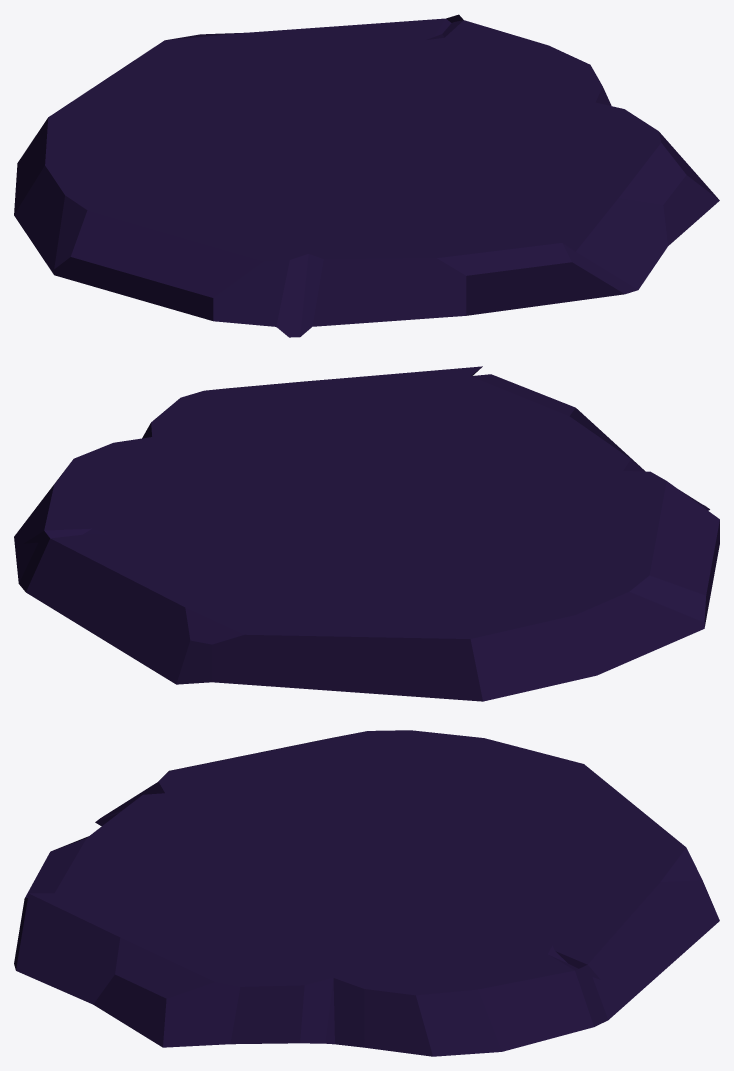
The model's file is ground_003_grp.fbx.
3 views of the same model, one above another, from view 1: azimuth 30°, elevation 25°; view 2: azimuth 150°, elevation 25°; view 3: azimuth 270°, elevation 25° (orthographic). The views are drawn at different scales.
Visible parts, largest first — view 1: ground_003_grp; view 2: ground_003_grp; view 3: ground_003_grp.
Part boxes in pixels (left/top/right/bottom): ground_003_grp: left=14, top=14, right=719, bottom=337; ground_003_grp: left=14, top=366, right=719, bottom=701; ground_003_grp: left=14, top=730, right=719, bottom=1056.
Bounding box in the file's own units: 100 × 8 × 100.
